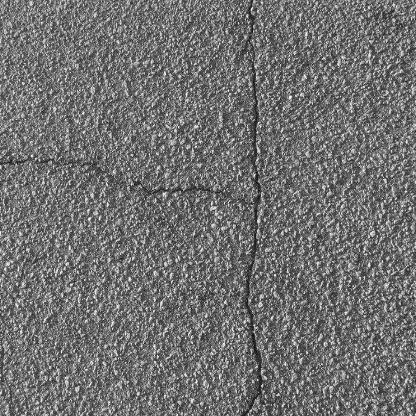Cracks: (0, 107, 267, 416), (245, 0, 262, 106)
